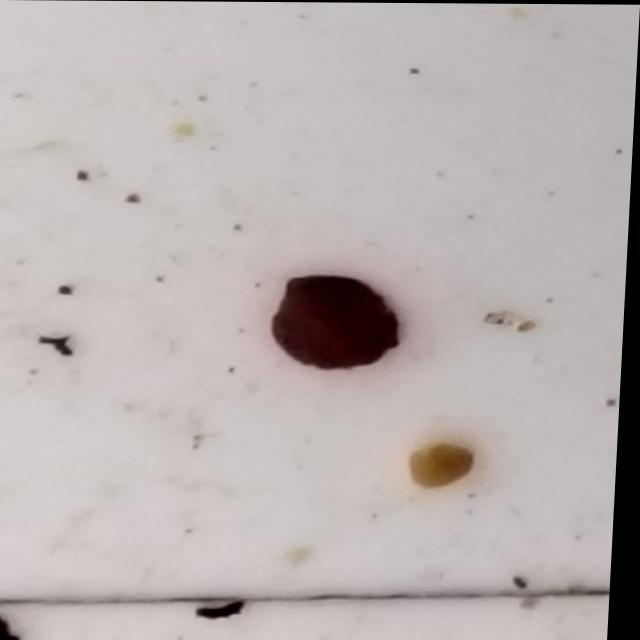varroa: (1, 610, 22, 639)
